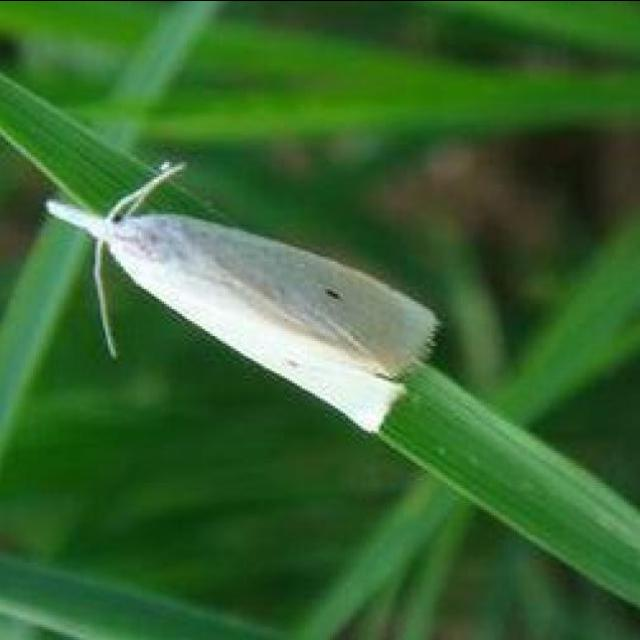stem borer: (46, 162, 437, 432)
